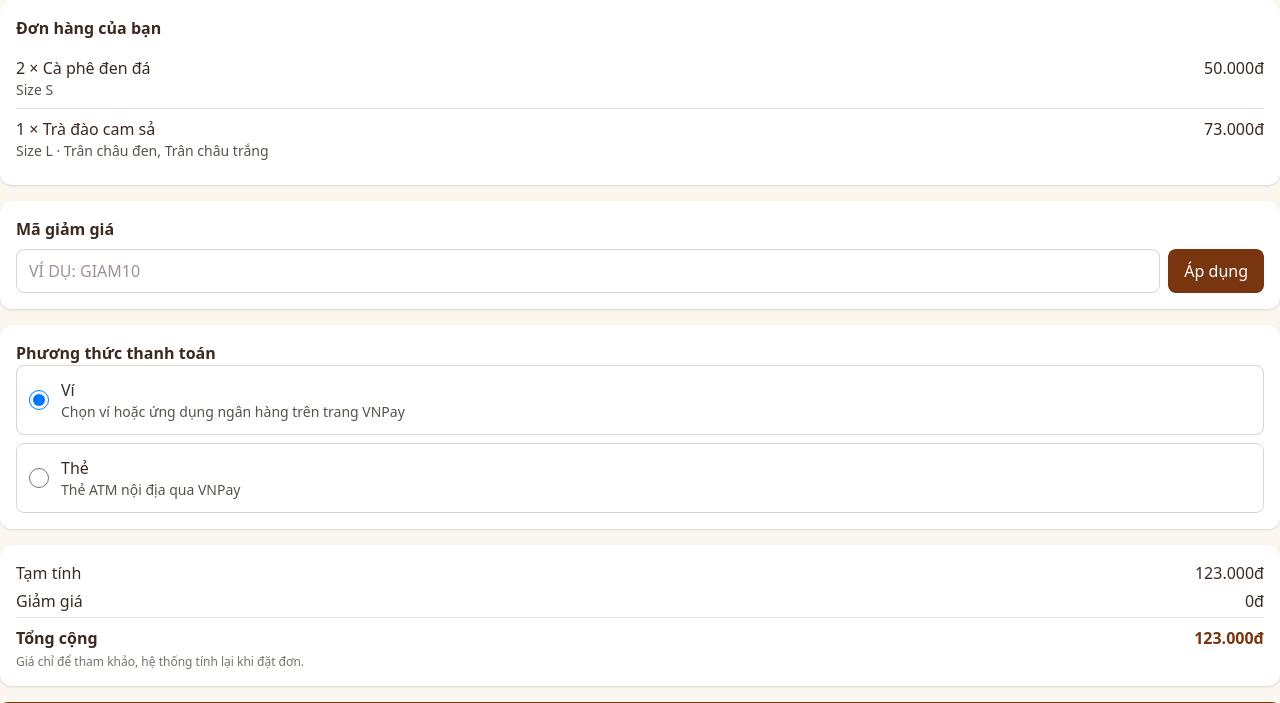
Test case: Màn Checkout (CT-69 – CT-74) › CT-72: bấm Thanh toán thì tạo đơn (không gửi giá), tạo giao dịch có Idempotency-Key rồi chuyển sang VNPay; nút bị khóa, giỏ giữ nguyên
This screenshot has width=1280, height=703.
Type "GIAM10" into the field named "Mã giảm giá".
click(588, 271); type("GIAM10")  # box [16,249,1160,293]
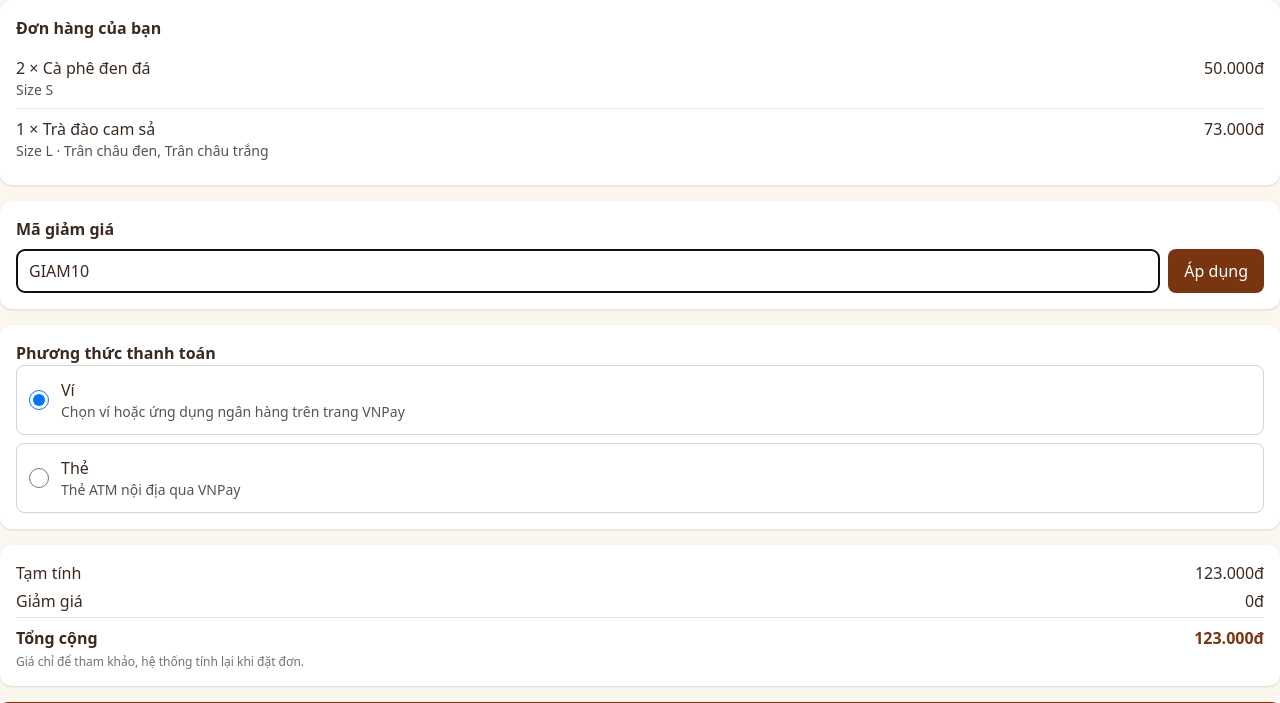
Click the button "Áp dụng".
click(1216, 271)  # box [1168,249,1264,293]
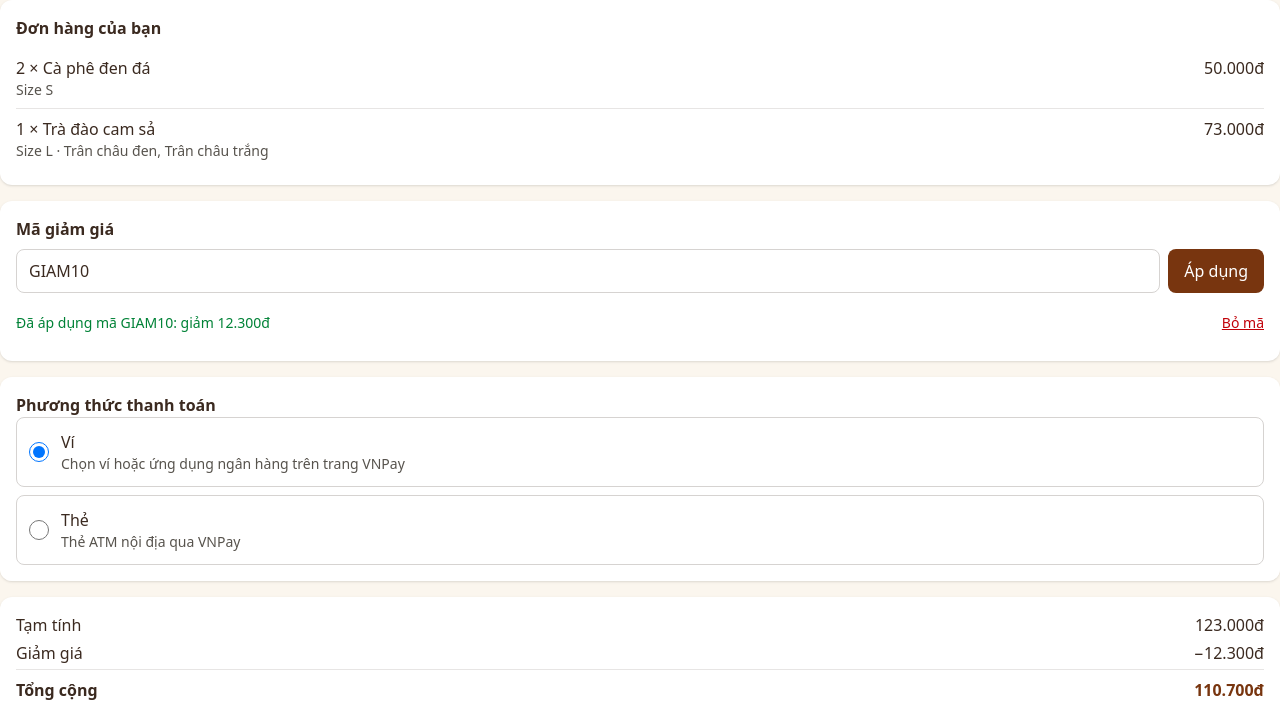
Expected: the text "Đã áp dụng mã GIAM10: giảm 12.300đ" is shown, [16,313,270,333]
Click the radio button labelled "Thẻ Thẻ ATM nội địa qua VNPay".
click(39, 530)  # box [29,520,49,540]
(page scrolled)
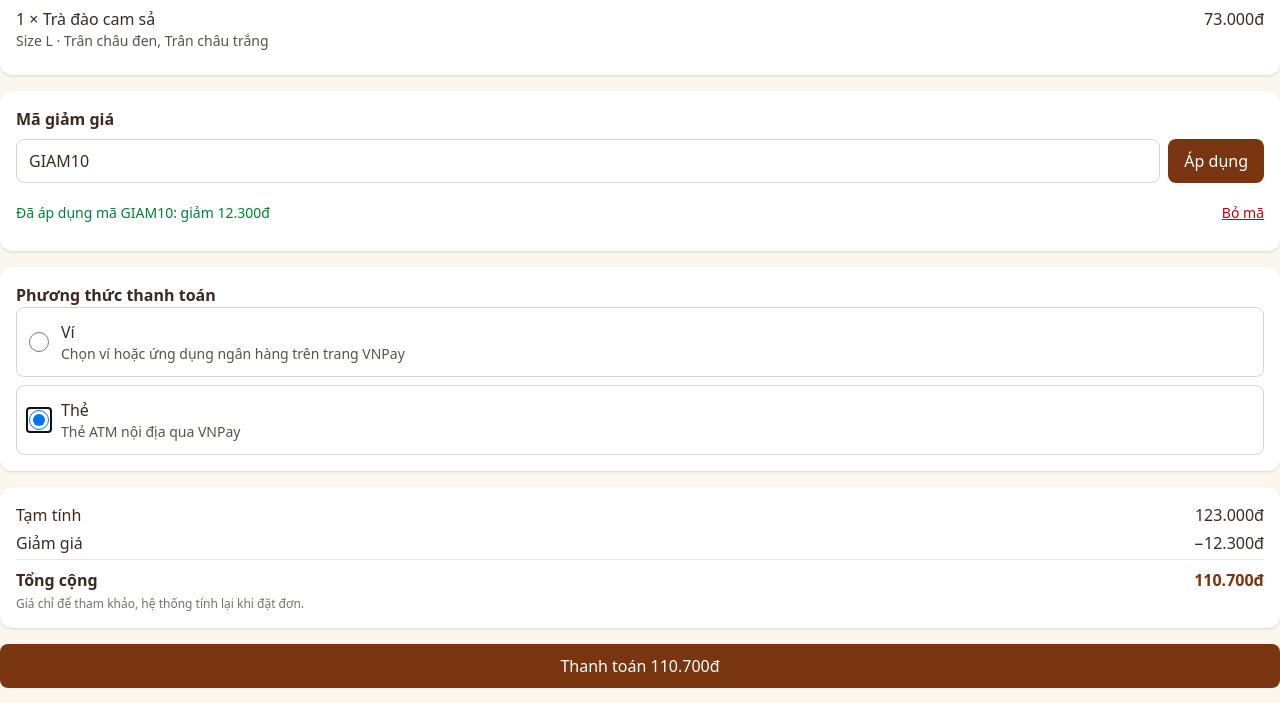
Click the button "Thanh toán 110.700đ".
click(640, 666)  # box [0,644,1279,688]
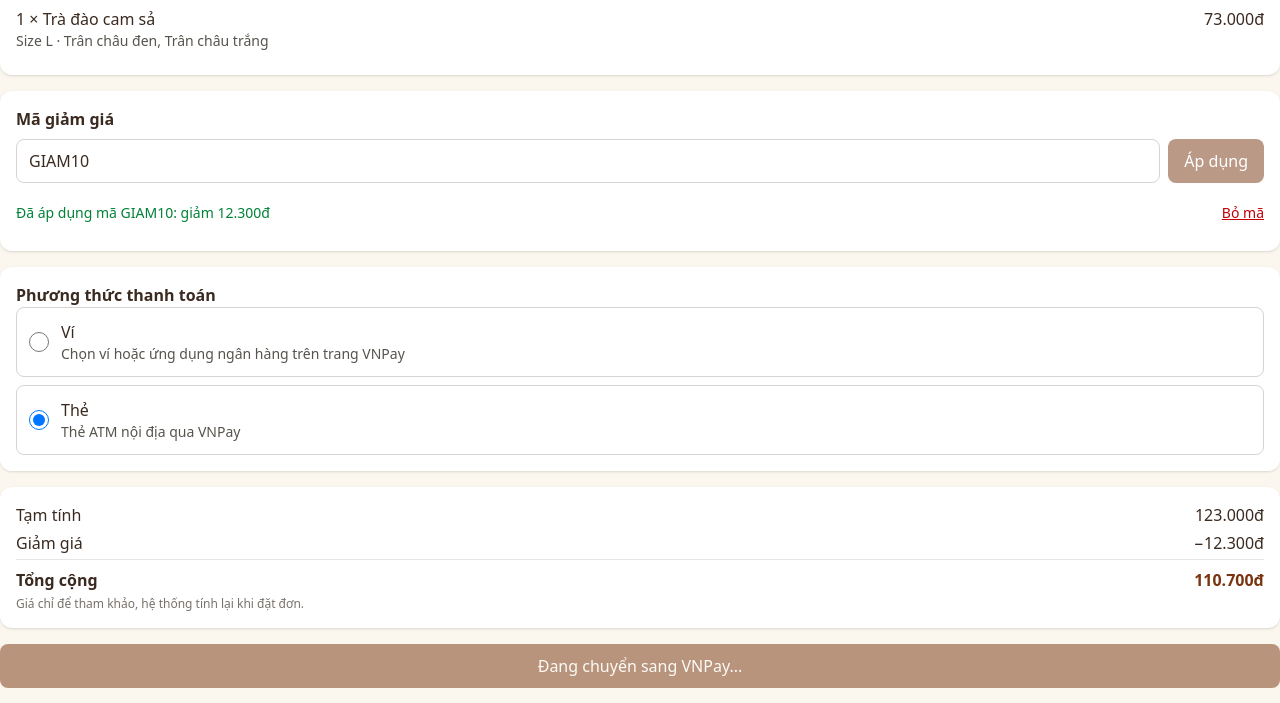
Expected: the button "Đang chuyển sang VNPay..." is disabled, [0,644,1279,688]
